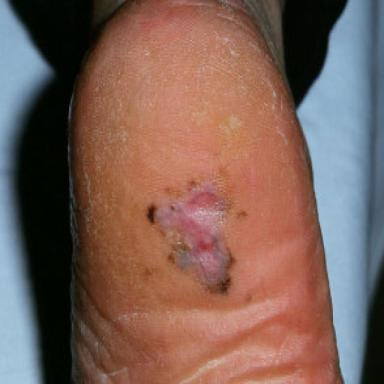Melanoma: (145, 165, 249, 296)
